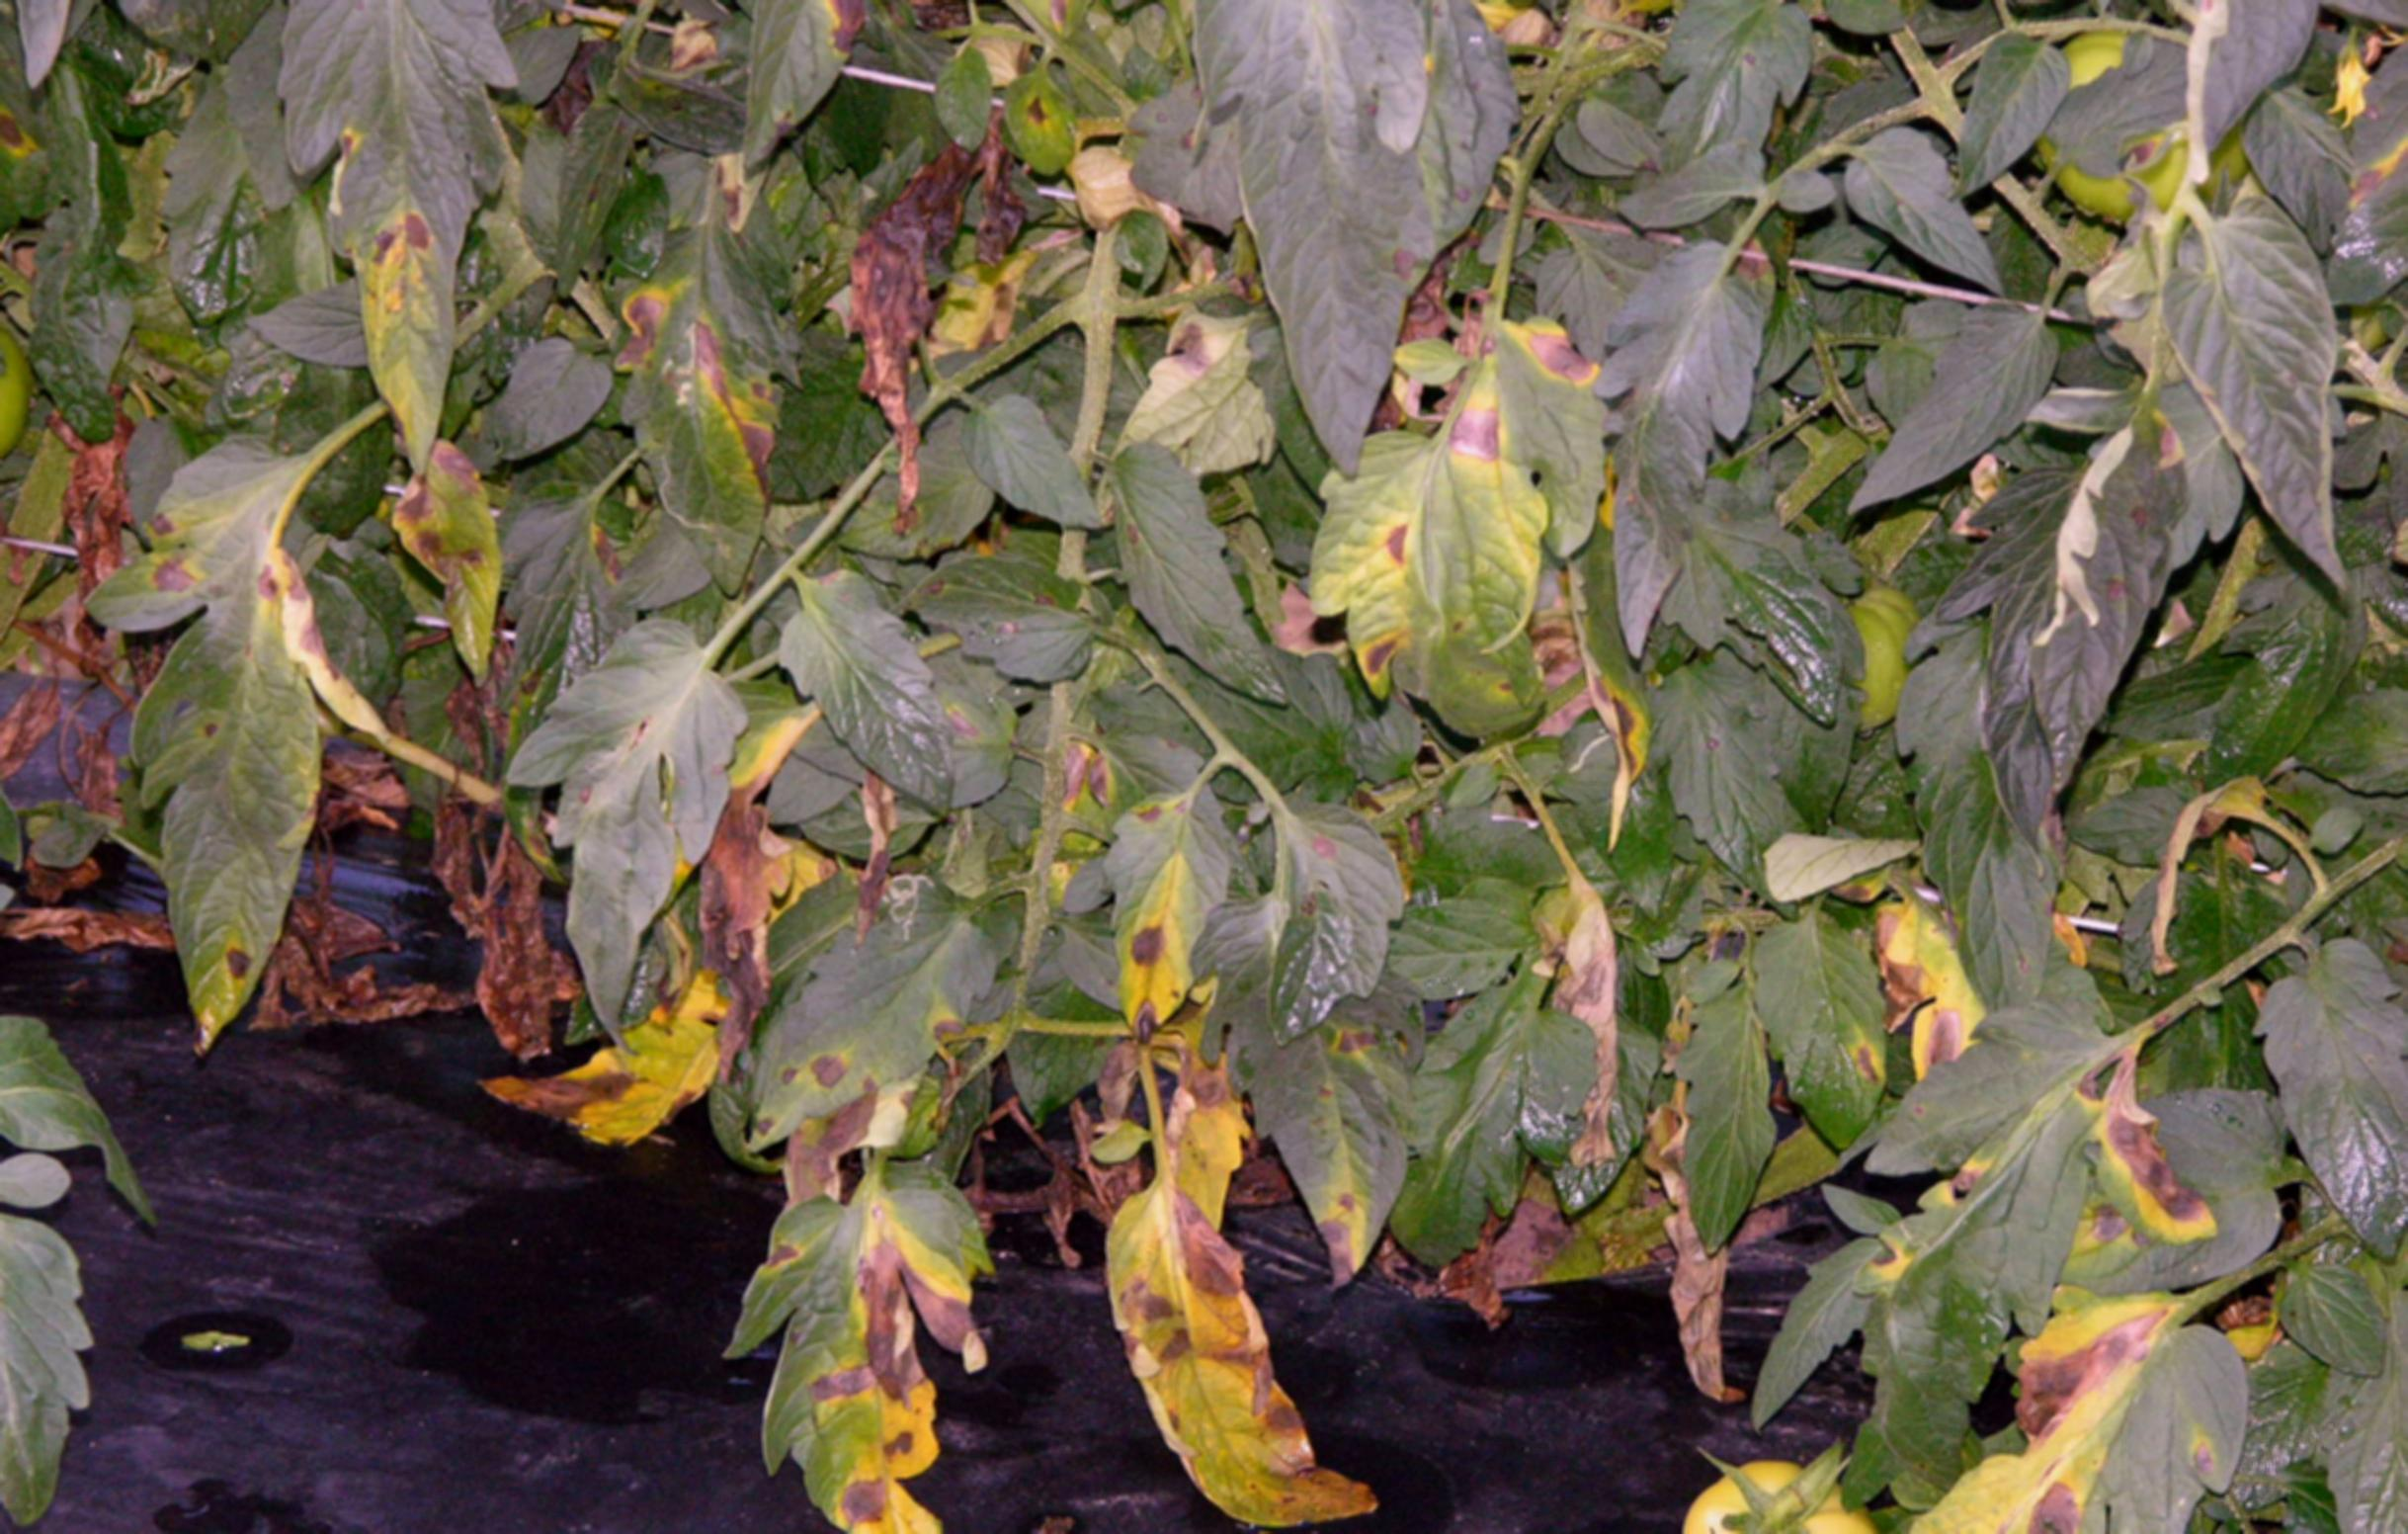Tomato Early blight leaf: (98, 383, 346, 1060), (265, 0, 556, 463), (1071, 1129, 1380, 1534), (1920, 1260, 2261, 1534), (760, 1167, 1000, 1534), (627, 163, 814, 597), (1306, 444, 1566, 720), (1729, 902, 1911, 1195), (911, 0, 1146, 160), (1114, 760, 1237, 1044), (374, 435, 520, 662)
Tomato leaf: (2176, 198, 2343, 574), (1086, 448, 1294, 716), (1606, 249, 1729, 679), (774, 562, 967, 827), (2257, 943, 2408, 1267), (0, 1183, 121, 1523), (1853, 312, 2034, 511), (1834, 142, 2022, 305)
